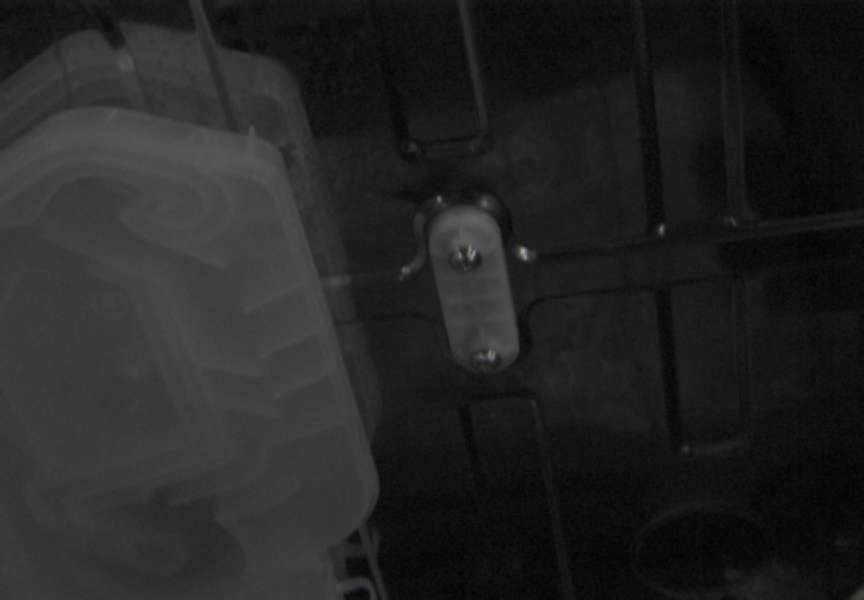screw: (449, 244, 482, 273), (471, 348, 501, 373)
